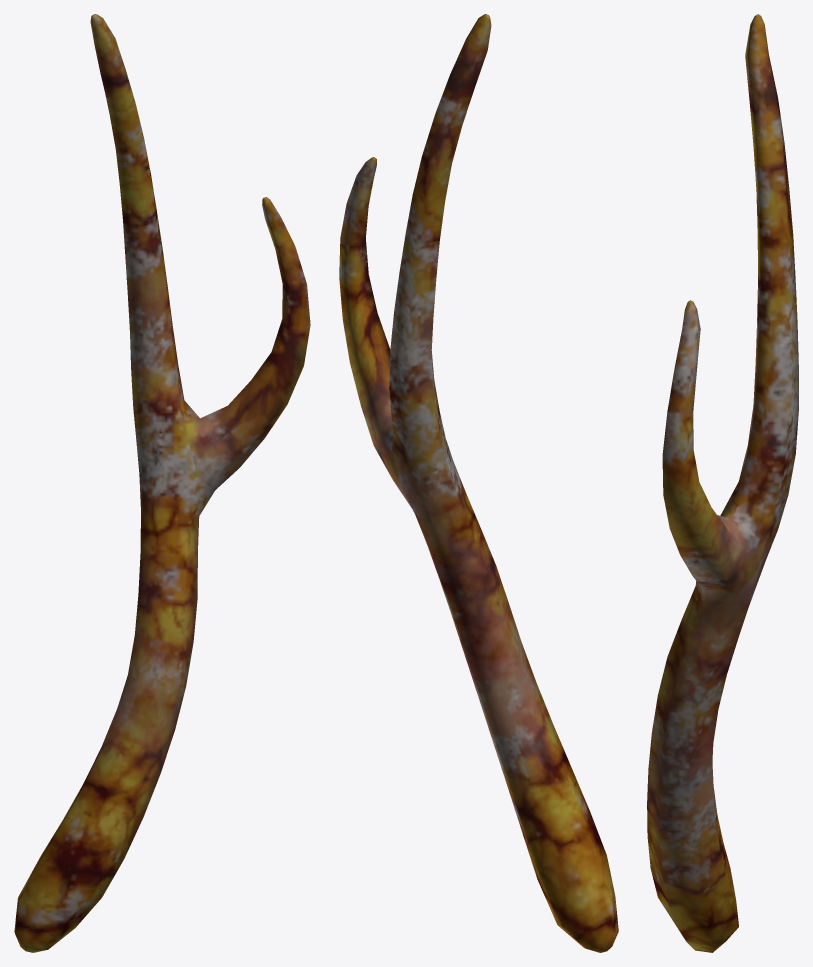
The model's file is Mutation6.fbx.
3 views of the same model, side by side, from view 1: azimuth 30°, elevation 25°; view 2: azimuth 150°, elevation 25°; view 3: azimuth 270°, elevation 25° (orthographic). The views are drawn at different scales.
Visible parts, largest first — view 1: P_Mutation06.mo; view 2: P_Mutation06.mo; view 3: P_Mutation06.mo.
Boxes of the visible parts, left/top/right/bottom form: P_Mutation06.mo: left=14, top=14, right=310, bottom=952; P_Mutation06.mo: left=339, top=14, right=618, bottom=952; P_Mutation06.mo: left=647, top=14, right=798, bottom=952.
Size of the model in its own units: 32.89 by 102 by 14.29.
